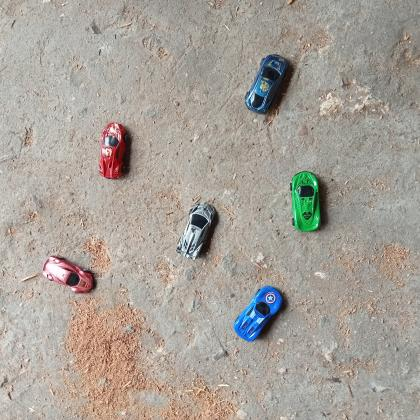Car: (232, 284, 284, 342), (243, 52, 290, 116), (174, 202, 217, 260), (41, 255, 95, 295), (290, 169, 322, 234), (99, 121, 129, 181)
